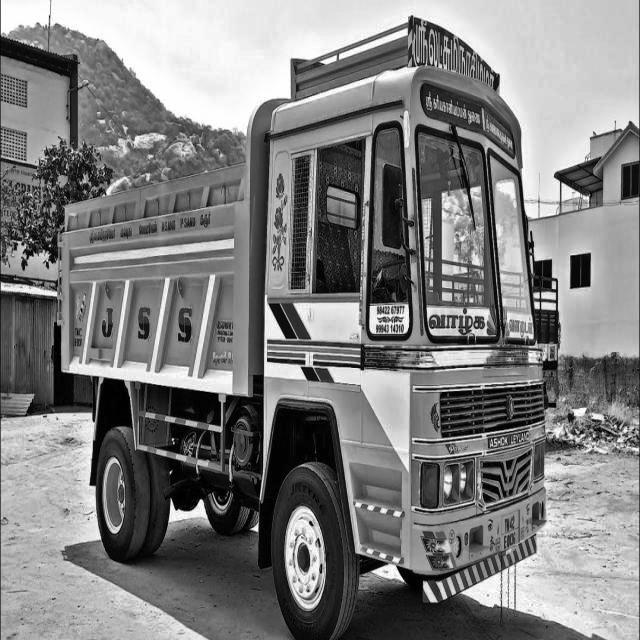HCV: (38, 14, 578, 640)
